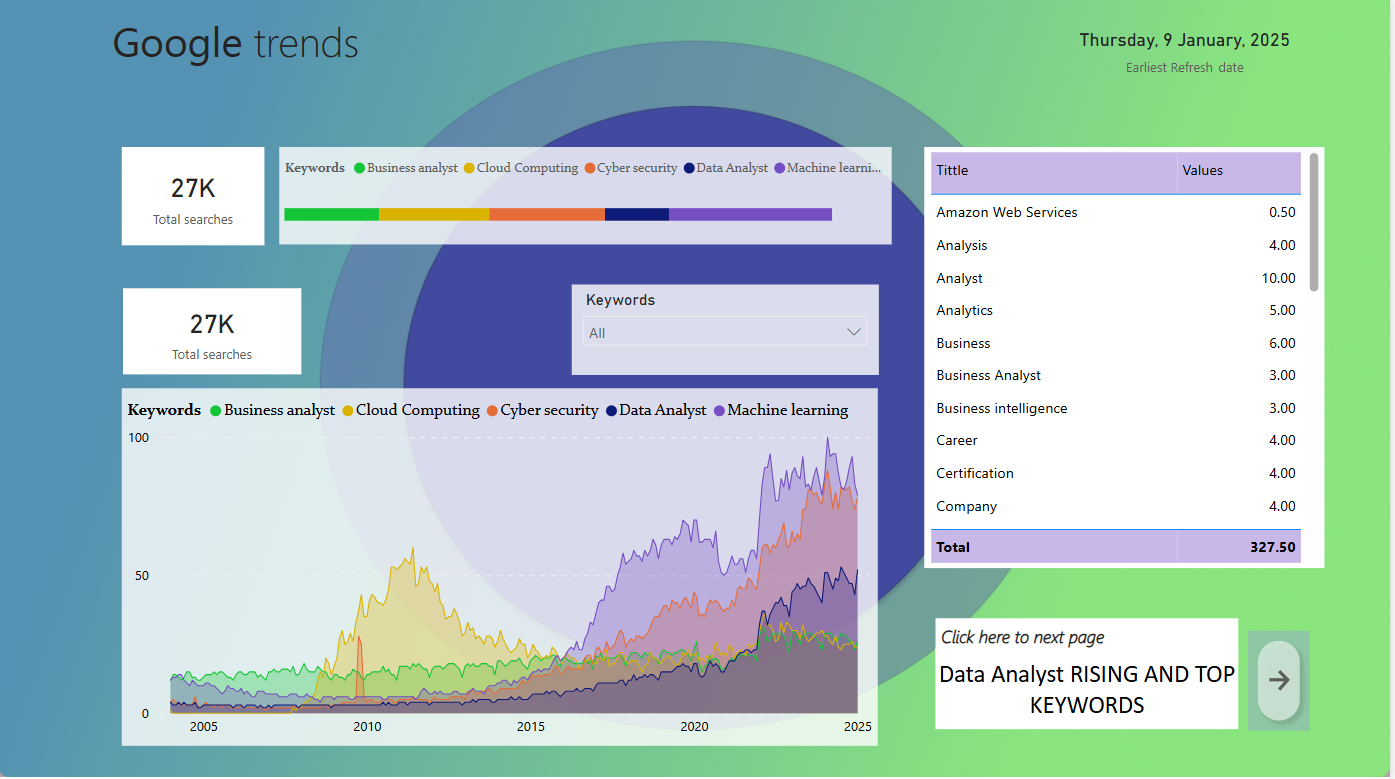

The dashboard page shown, as its layout file describes it:
{"tool":"powerbi","page":{"name":"Real-time","canvas":[1280,720],"ordinal":3},"visuals":[{"type":"areaChart","fields":{"Y":["By_date API.By_date_value"],"Series":["By_date API.Keywords"],"Category":["By_date API.Date.Variation.Date Hierarchy.Year","By_date API.Date.Variation.Date Hierarchy.Month"]},"box":[114.3,359.7,694.8,328.6],"z":0},{"type":"slicer","fields":{"Values":["By_date API.Keywords"]},"box":[527,264.1,282.2,83.2],"z":1000},{"type":"card","fields":{"Values":["By_date API.By_date_value"]},"box":[114.6,267.7,164,79.6],"z":2000},{"type":"card","fields":{"Values":["By_date API.By_date_value"]},"box":[113.4,137.5,131.5,90.5],"z":3000},{"type":"barChart","fields":{"Y":["By_date API.By_date_value"],"Series":["By_date API.Keywords"]},"box":[258.1,137.5,563.2,89.2],"z":4000},{"type":"actionButton","box":[1149.3,582.5,56.7,91.7],"z":5000},{"type":"textbox","box":[862.3,571.7,278.6,42.2],"z":6000},{"type":"shape","box":[862.3,599.4,278.6,74.8],"z":7000},{"type":"tableEx","fields":{"Values":["top_rising_table.Tittle","Sum(top_rising_table.Value1)"]},"box":[851.5,137.5,367.8,387.1],"z":8000},{"type":"textbox","box":[100,10.4,374,63.6],"z":9000},{"type":"card","fields":{"Values":["Min(Refresh_date.Refresh_date)"]},"box":[977,22,229.2,52.1],"z":10000}]}

Visuals, with their boxes in screenshot pixels (x1, y1, x2, y2), scaled from the page's 1280x720 canvas onto the 1395x779 screenshot:
areaChart - By_date API.By_date_value x By_date API.Keywords: l=125, t=389, r=882, b=745
slicer - By_date API.Keywords: l=574, t=286, r=882, b=376
card - By_date API.By_date_value: l=125, t=290, r=304, b=376
card - By_date API.By_date_value: l=124, t=149, r=267, b=247
barChart - By_date API.By_date_value x By_date API.Keywords: l=281, t=149, r=895, b=245
actionButton: l=1253, t=630, r=1314, b=729
textbox: l=940, t=619, r=1243, b=664
shape: l=940, t=649, r=1243, b=729
tableEx - top_rising_table.Tittle x Sum(top_rising_table.Value1): l=928, t=149, r=1329, b=568
textbox: l=109, t=11, r=517, b=80
card - Min(Refresh_date.Refresh_date): l=1065, t=24, r=1315, b=80
